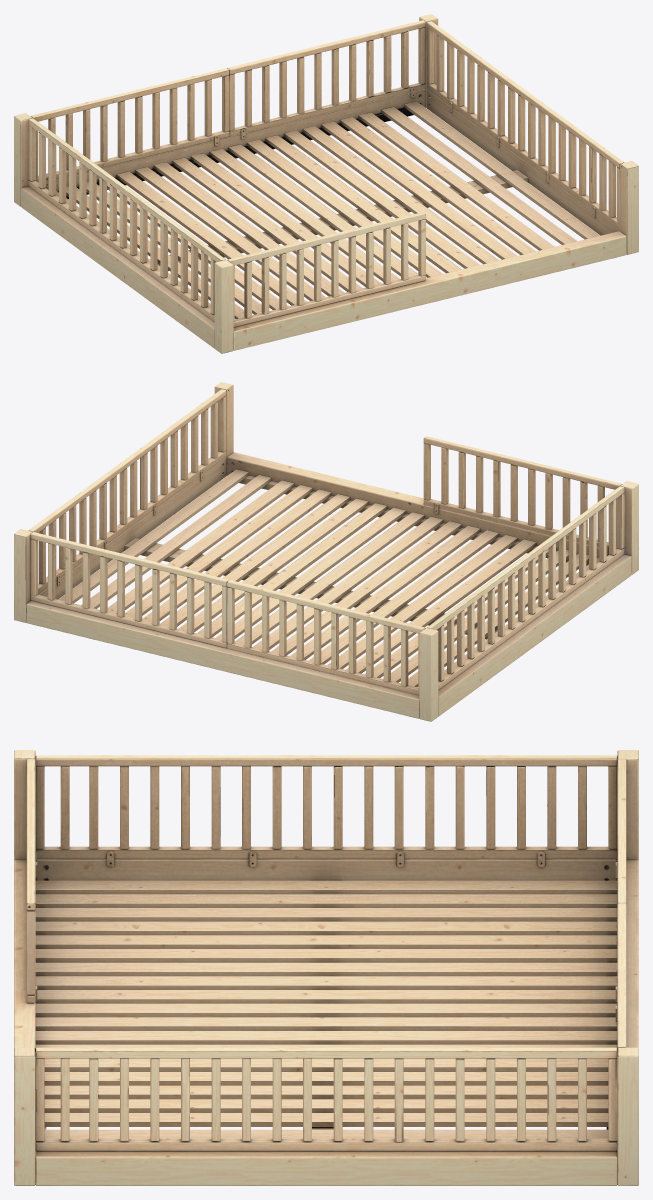
3 renders of one model, top to bottom at view 1: azimuth 30°, elevation 25°; view 2: azimuth 150°, elevation 25°; view 3: azimuth 270°, elevation 25°, orthographic. The views are drawn at different scales.
Parts seen in each view (by area): view 1: 190x160; view 2: 190x160; view 3: 190x160.
Part boxes in pixels (x1=…): 190x160: x1=14, y1=14, x2=638, y2=353; 190x160: x1=14, y1=382, x2=638, y2=721; 190x160: x1=14, y1=750, x2=638, y2=1185.
Bounding box in the file's own units: 2.02 × 0.4 × 1.74.
Materials: 1 (1 with a texture image).
